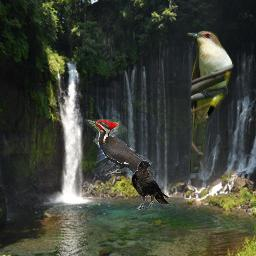Crow: (131, 160, 170, 210)
Cuckoo: (186, 30, 234, 173)
Woodpecker: (84, 119, 155, 206)
